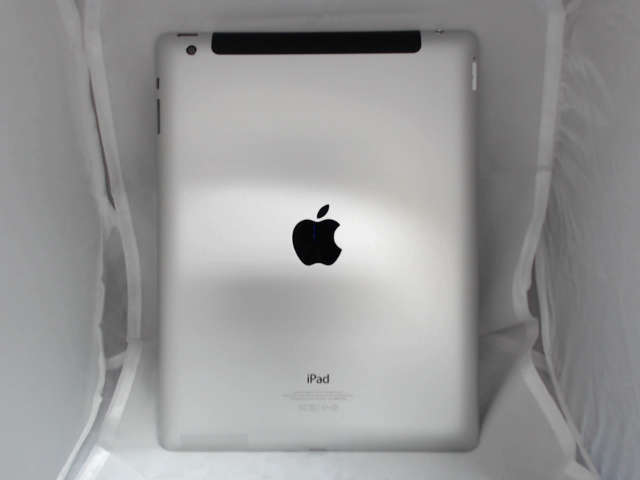apple: (286, 195, 367, 286)
